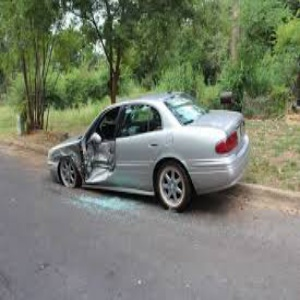door: (84, 144, 134, 183)
